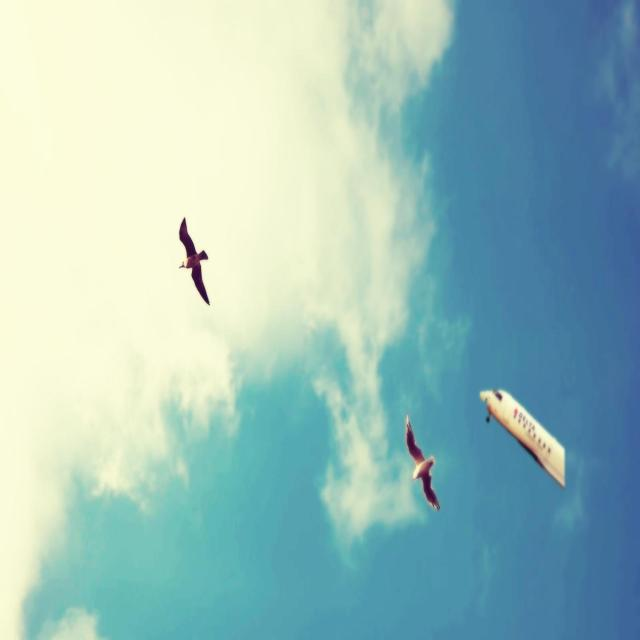airplane: (478, 387, 566, 489)
